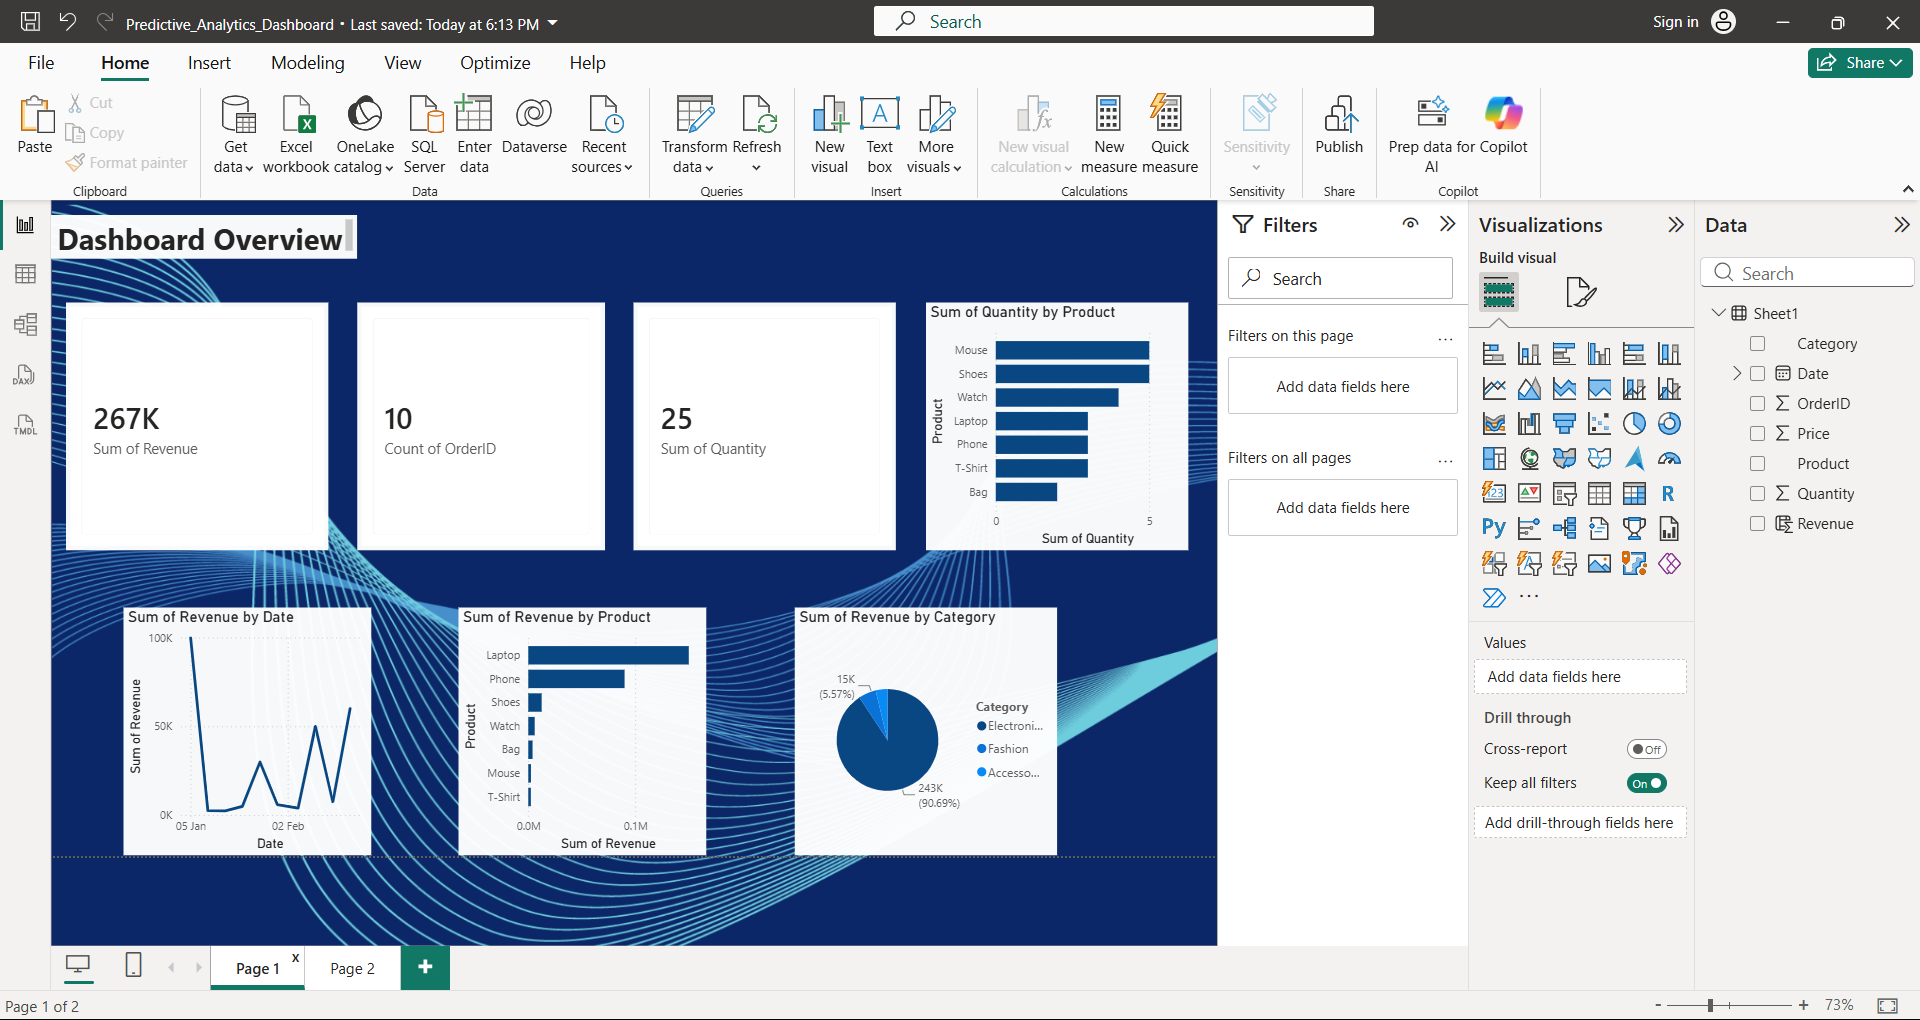

The page's visual inventory and layout, read from the dashboard file:
{"tool":"powerbi","page":{"name":"Page 1","canvas":[1280,720],"ordinal":0},"visuals":[{"type":"cardVisual","fields":{"Data":["Sum(Sheet1.Revenue)"]},"box":[16,112,288,272],"z":0},{"type":"cardVisual","fields":{"Data":["CountNonNull(Sheet1.OrderID)"]},"box":[336,112,272,272],"z":1000},{"type":"cardVisual","fields":{"Data":["Sum(Sheet1.Quantity)"]},"box":[640,112,288,272],"z":2000},{"type":"lineChart","fields":{"Y":["Sum(Sheet1.Revenue)"],"Category":["Sheet1.Date"]},"box":[80,448,272,272],"z":3000},{"type":"clusteredBarChart","fields":{"Category":["Sheet1.Product"],"Y":["Sum(Sheet1.Revenue)"]},"box":[448,448,272,272],"z":4000},{"type":"pieChart","fields":{"Category":["Sheet1.Category"],"Y":["Sum(Sheet1.Revenue)"]},"box":[816,448,288,272],"z":5000},{"type":"clusteredBarChart","fields":{"Category":["Sheet1.Product"],"Y":["Sum(Sheet1.Quantity)"]},"box":[960,112,288,272],"z":6000},{"type":"textbox","box":[0,16,336,48],"z":6001}]}

Visuals, with their boxes on the page's 1280x720 design canvas (x1, y1, x2, y2). These are canvas units, not pixel positions in the 1920x1020 screenshot, which may show the page scaled, cropped or inside an application window:
cardVisual - Sum(Sheet1.Revenue): crop(16, 112, 304, 384)
cardVisual - CountNonNull(Sheet1.OrderID): crop(336, 112, 608, 384)
cardVisual - Sum(Sheet1.Quantity): crop(640, 112, 928, 384)
lineChart - Sum(Sheet1.Revenue) x Sheet1.Date: crop(80, 448, 352, 720)
clusteredBarChart - Sheet1.Product x Sum(Sheet1.Revenue): crop(448, 448, 720, 720)
pieChart - Sheet1.Category x Sum(Sheet1.Revenue): crop(816, 448, 1104, 720)
clusteredBarChart - Sheet1.Product x Sum(Sheet1.Quantity): crop(960, 112, 1248, 384)
textbox: crop(0, 16, 336, 64)
